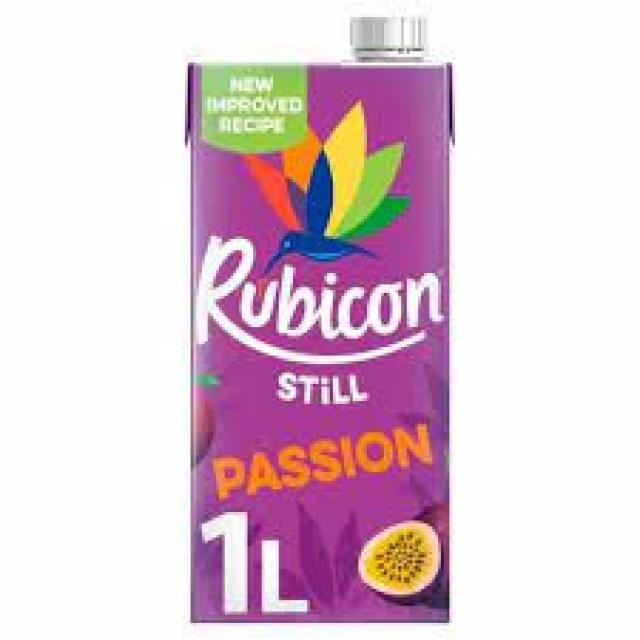non_white_jug: (162, 9, 461, 628)
